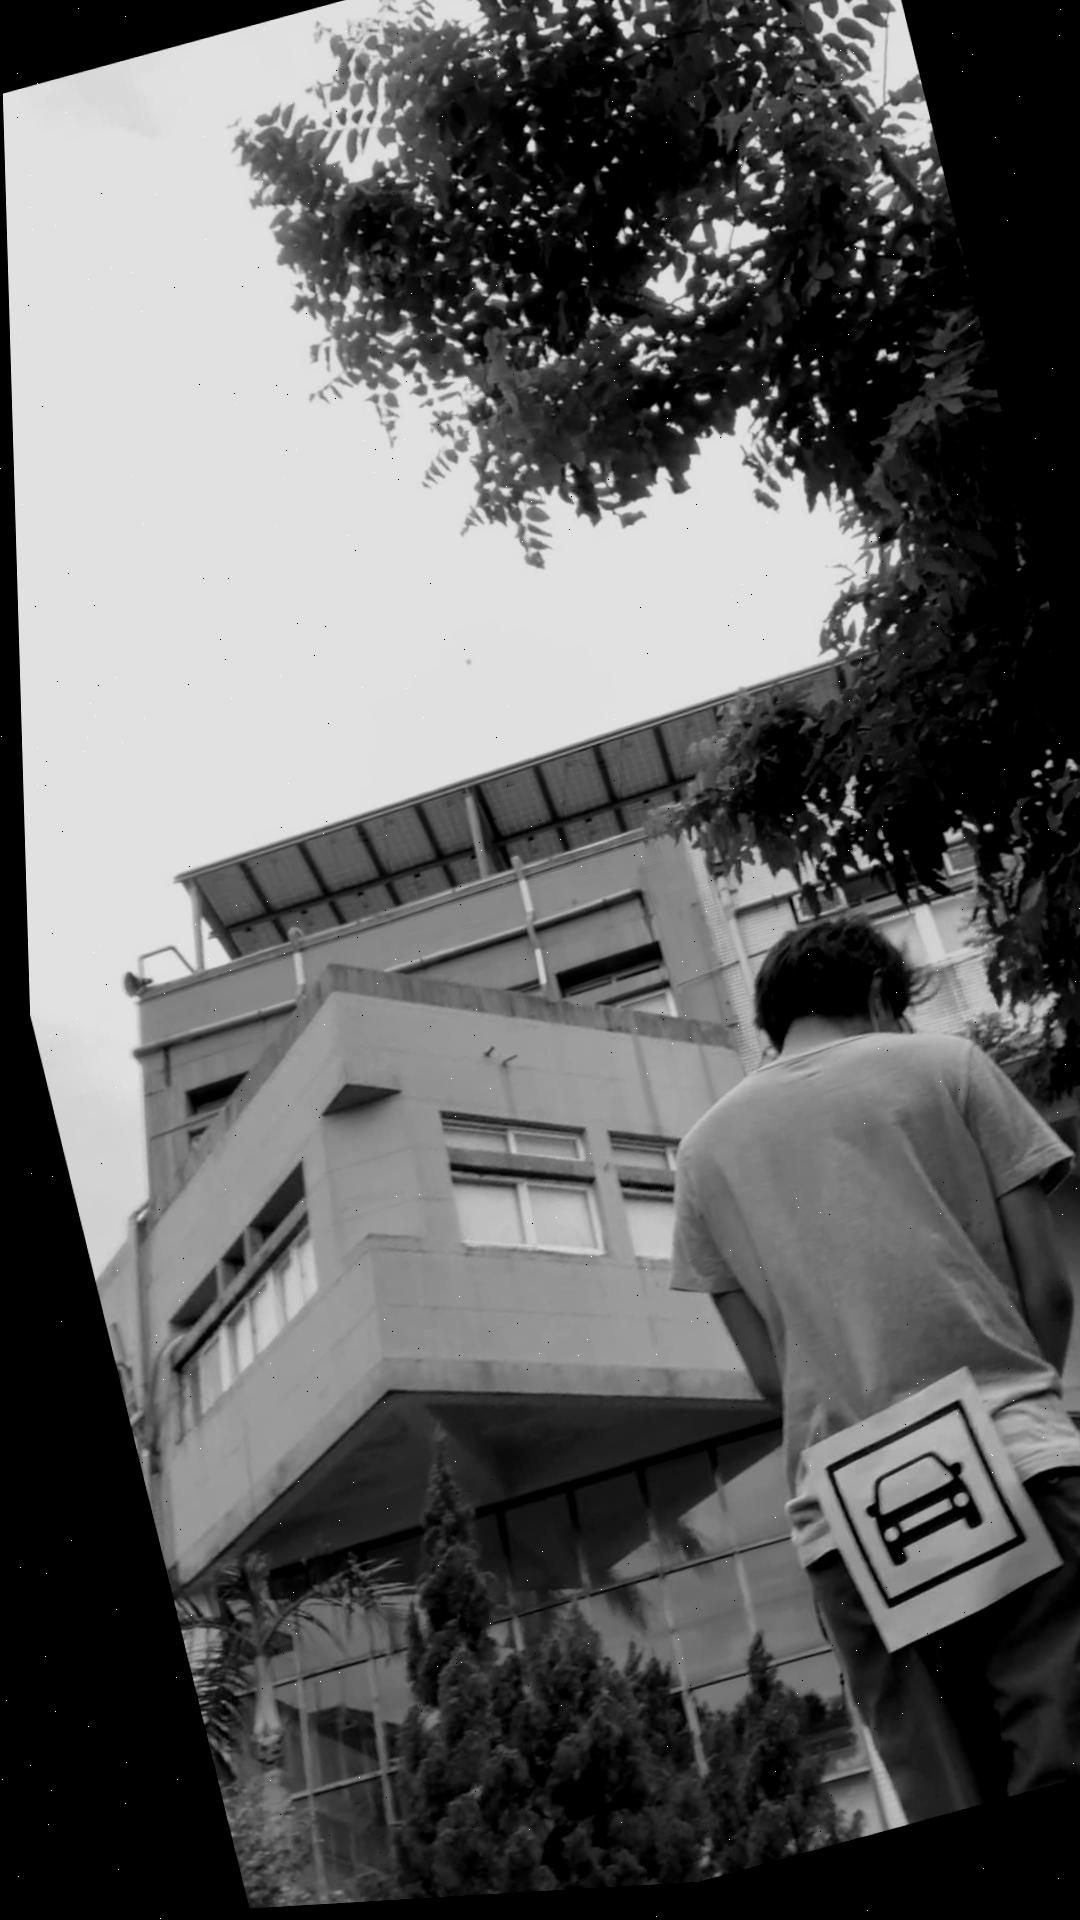car_img: (808, 1396, 1025, 1629)
